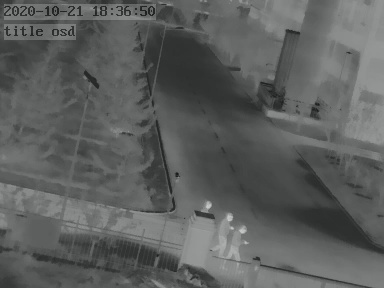person: (214, 210, 231, 257), (230, 223, 248, 267)
